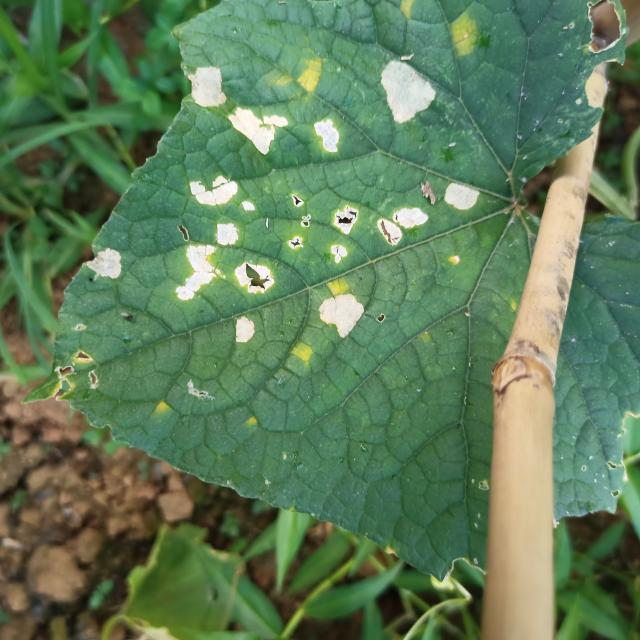disease_cucumber: (175, 168, 432, 351), (373, 46, 438, 131), (225, 106, 291, 158), (183, 61, 230, 116), (78, 244, 128, 290), (275, 54, 330, 94), (444, 11, 487, 62), (440, 173, 485, 219), (310, 111, 345, 161), (324, 268, 349, 299), (289, 338, 318, 364)
